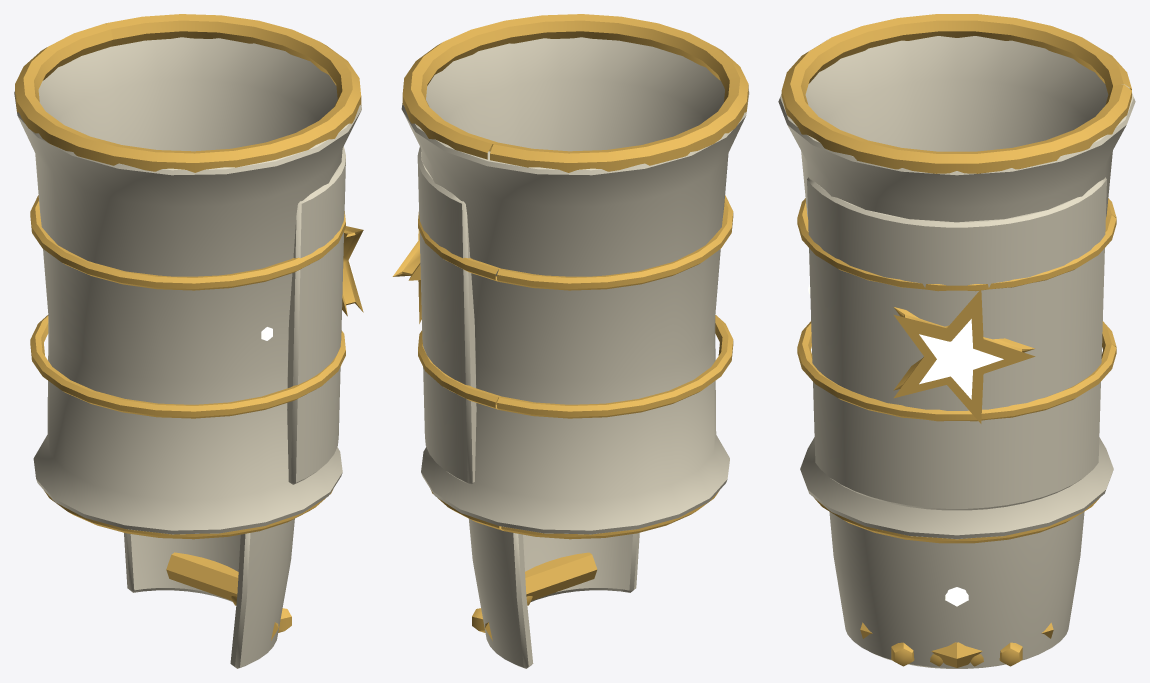
Rendered from asc_archon_crusader_gloves.glb.
The picture shows the model from 3 angles, left to right: view 1: azimuth 30°, elevation 25°; view 2: azimuth 150°, elevation 25°; view 3: azimuth 270°, elevation 25°; orthographic projection.
Visible parts, largest first — view 1: asc_archon_crusader_gloves, AT_hand_L; view 2: asc_archon_crusader_gloves, AT_hand_L; view 3: asc_archon_crusader_gloves, AT_hand_L.
Boxes of the visible parts, x1,y1,x2,y2 form: asc_archon_crusader_gloves: (14,14,363,539); AT_hand_L: (124,518,294,668); asc_archon_crusader_gloves: (392,14,749,539); AT_hand_L: (469,519,639,668); asc_archon_crusader_gloves: (778,14,1135,543); AT_hand_L: (829,511,1084,668).
Bounding box in the file's own units: 0.1971 × 0.3408 × 0.2004.
